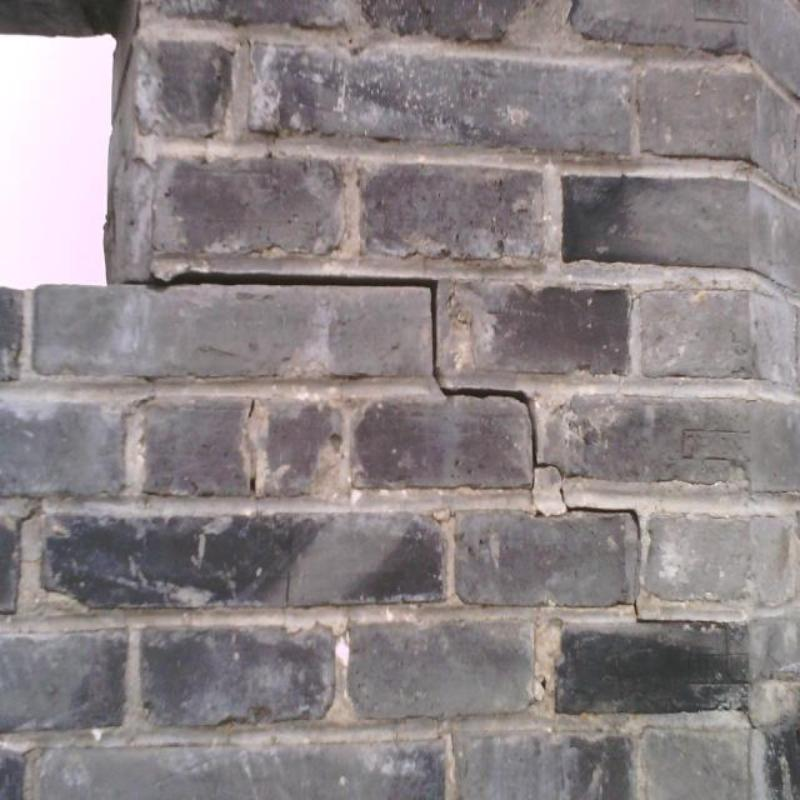pothole: (122, 275, 594, 480), (560, 489, 641, 540), (634, 599, 720, 624), (529, 468, 568, 519), (720, 624, 748, 684), (12, 495, 48, 534), (736, 701, 756, 729), (282, 566, 294, 608), (245, 396, 256, 419), (249, 475, 258, 492)
